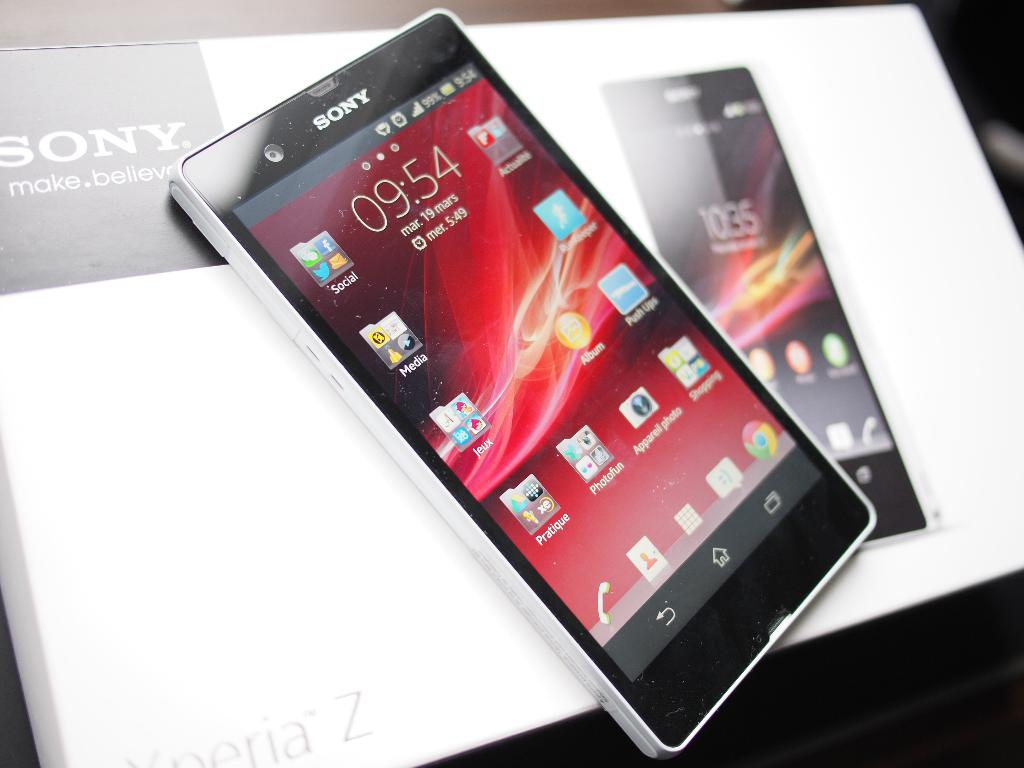Mobile-phone: (163, 6, 877, 751), (600, 61, 929, 532)
